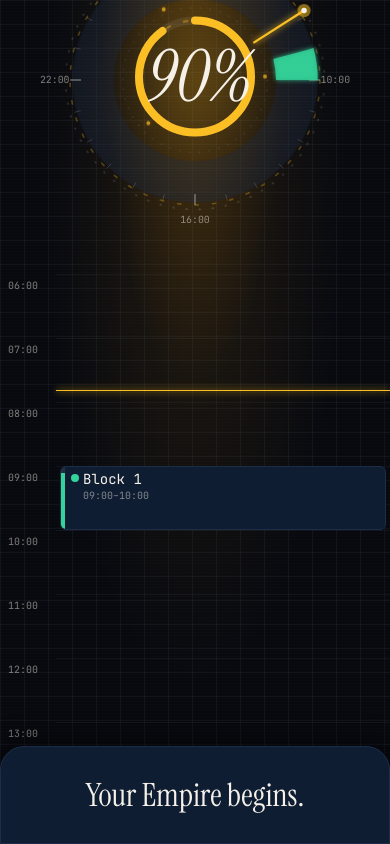
Test: C-m4f-009: BuildingClient + on units at done:9/target:10 dispatches SET_UNITS_DONE; day-100 fires › after tap chip → UnitsEntrySheet → Save 10, haptics.notification fires once; playChime fires once (M7f); Fireworks active
(page scrolled)
Click the element showing "Block 1 09:00–10:00" at (223, 498), box [60,466,386,530]
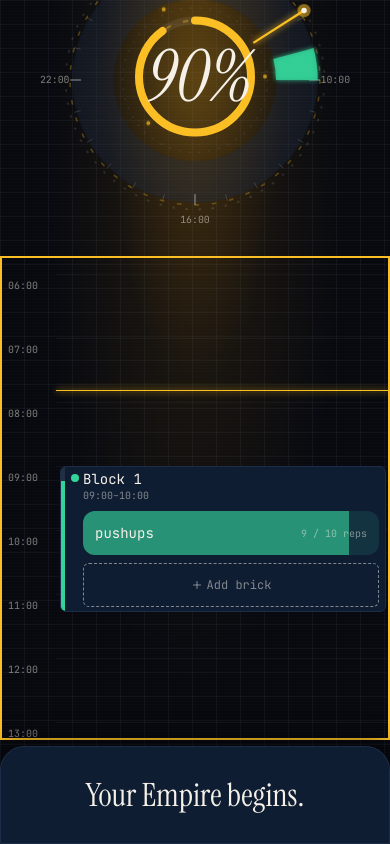
Click the button "pushups 9 / 10 reps" at (124, 533), box [83,511,379,555]
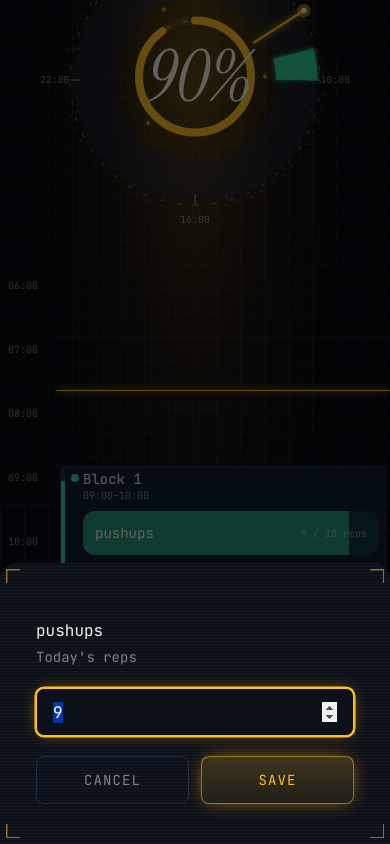
Result: the dialog is shown
Clear and type "10" (target) to trigger cross-up
Replace the text in the number field with "10" at (195, 712), box [36,688,354,736]
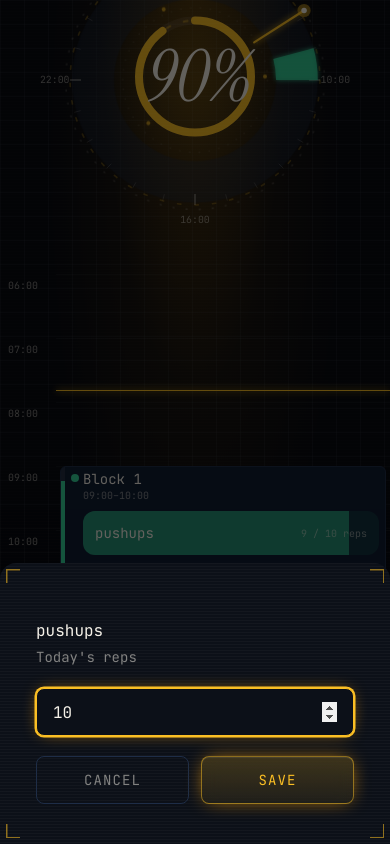
Click Save
Click the button "Save" at (278, 780), box [201,756,354,804]
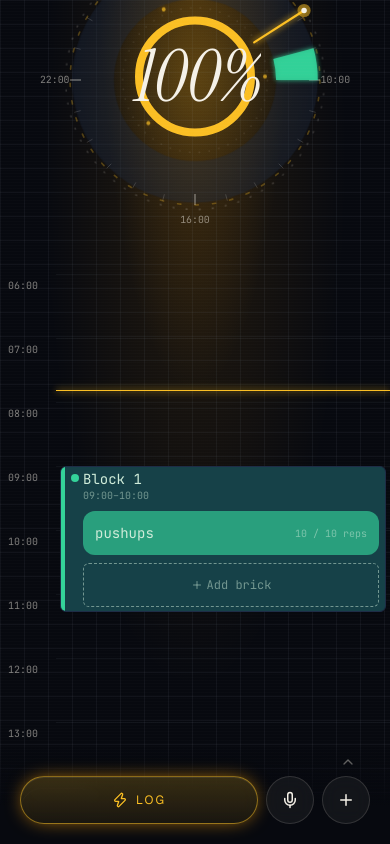
Result: the element with test id "fireworks" is shown
